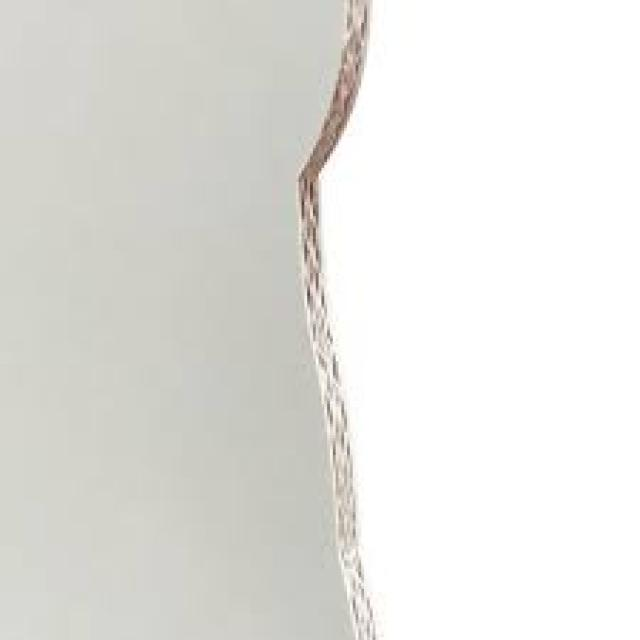cardboard: (296, 0, 637, 637)
